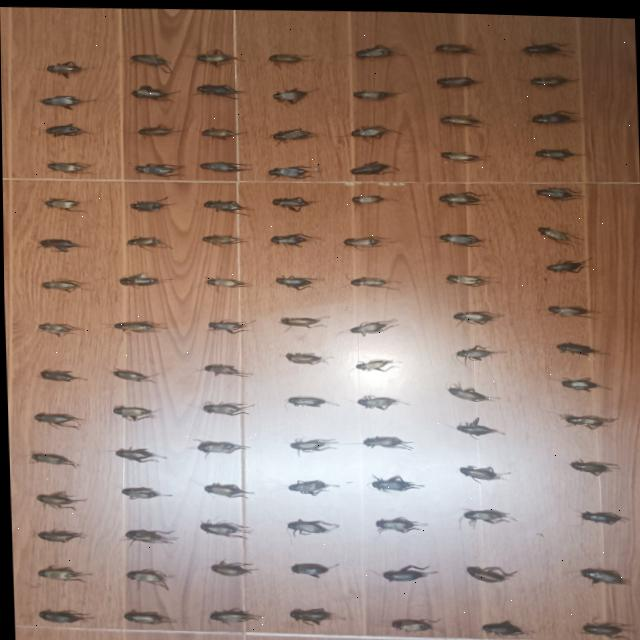no: (445, 378, 497, 398), (34, 490, 84, 509), (287, 605, 342, 622), (454, 413, 502, 432), (207, 605, 259, 622), (124, 567, 168, 587), (35, 564, 89, 580), (381, 561, 434, 577), (369, 472, 422, 488), (285, 516, 337, 532), (373, 513, 425, 529), (461, 505, 513, 521), (560, 410, 615, 425), (457, 462, 508, 478), (130, 83, 180, 99), (198, 519, 248, 535), (464, 562, 514, 578), (568, 455, 618, 471), (195, 47, 242, 64), (32, 411, 80, 427), (578, 563, 626, 579), (113, 446, 164, 461), (286, 477, 337, 492), (581, 616, 625, 633), (121, 609, 173, 623), (270, 194, 318, 209), (129, 53, 171, 70), (267, 162, 318, 176), (40, 94, 90, 108), (452, 307, 502, 321), (559, 373, 609, 387), (203, 198, 249, 213), (288, 560, 337, 574), (361, 433, 410, 447), (455, 342, 504, 356), (546, 254, 591, 269), (269, 230, 317, 244), (480, 616, 522, 632), (579, 506, 627, 520), (119, 271, 170, 284), (194, 438, 245, 451), (437, 230, 488, 243), (530, 106, 581, 119), (43, 122, 90, 136), (202, 481, 249, 495), (200, 399, 247, 413), (274, 273, 321, 287), (349, 316, 396, 330), (350, 121, 397, 135), (209, 558, 250, 574), (123, 528, 173, 541), (342, 233, 392, 246), (554, 338, 604, 351), (196, 82, 242, 96), (201, 361, 250, 374), (348, 158, 397, 171), (37, 609, 90, 621), (112, 404, 154, 419), (355, 392, 400, 406), (438, 188, 483, 202), (546, 301, 598, 313), (536, 223, 577, 238), (277, 313, 328, 325), (134, 161, 181, 174), (119, 485, 169, 497), (389, 616, 439, 628), (29, 452, 75, 465), (37, 238, 83, 251), (288, 436, 334, 449), (522, 39, 568, 52), (349, 274, 398, 286), (112, 319, 165, 330), (443, 271, 496, 282), (534, 144, 582, 156), (43, 196, 84, 210), (269, 126, 316, 138), (535, 183, 582, 195), (198, 159, 249, 170), (37, 322, 80, 335), (36, 529, 81, 541), (129, 197, 170, 210), (207, 317, 245, 331), (267, 50, 311, 62), (110, 367, 153, 379), (272, 86, 306, 101), (136, 123, 182, 134), (354, 356, 396, 368), (284, 393, 334, 403), (439, 112, 484, 123), (354, 41, 392, 54), (38, 368, 79, 380), (352, 87, 401, 97), (126, 235, 170, 246), (46, 60, 83, 73), (436, 73, 479, 84), (284, 351, 331, 361), (41, 279, 82, 290), (46, 161, 91, 171), (201, 232, 246, 242), (440, 148, 485, 158), (529, 72, 578, 81), (200, 125, 239, 136), (204, 276, 250, 285), (435, 40, 476, 49), (352, 192, 390, 201), (58, 131, 66, 133)
